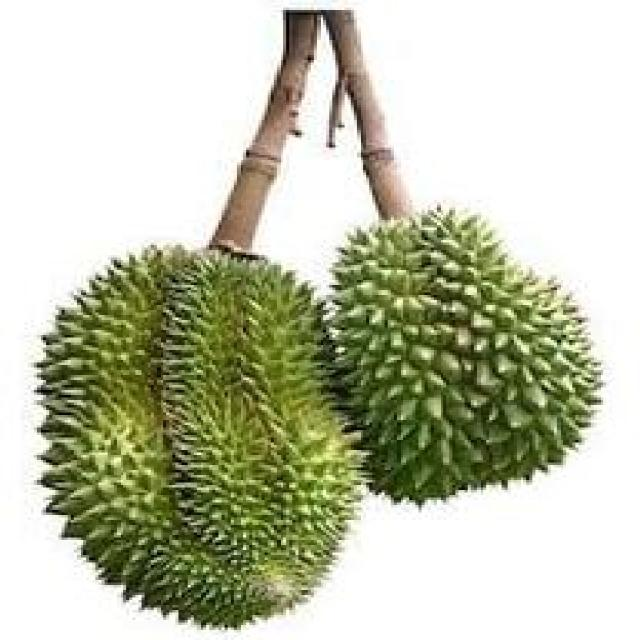fruit: (289, 173, 637, 555), (135, 232, 400, 640), (6, 230, 219, 640)
